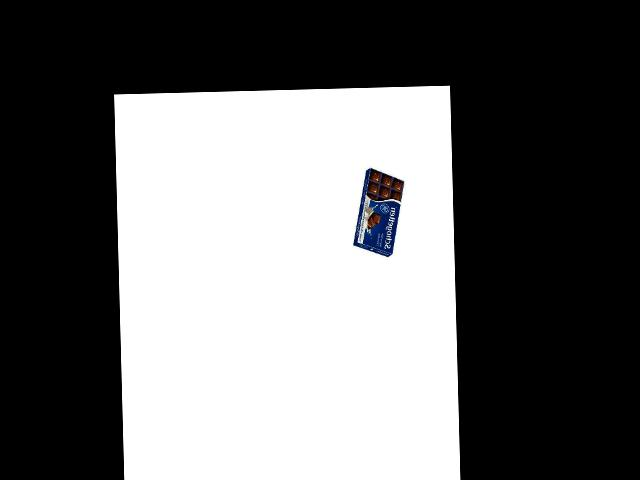chocolate: (358, 166, 406, 259)
